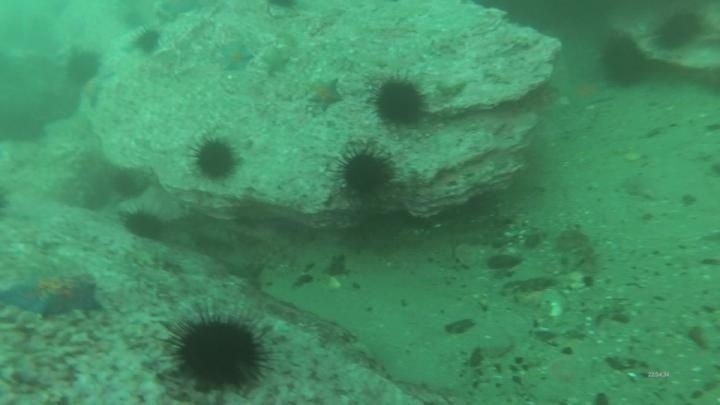echinus: (166, 310, 270, 396), (335, 145, 396, 199), (370, 74, 429, 129), (597, 32, 649, 89), (190, 135, 240, 182), (652, 10, 705, 53), (1, 105, 48, 147), (121, 207, 166, 243), (64, 47, 103, 88), (110, 167, 149, 201), (131, 26, 164, 57)
starfish: (1, 266, 104, 320), (559, 74, 614, 112), (304, 75, 345, 112), (79, 69, 115, 110), (216, 39, 256, 74), (260, 43, 292, 77)
